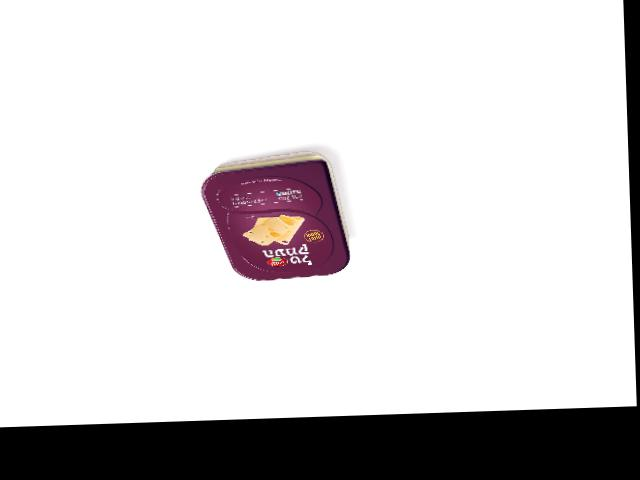cheese: (199, 150, 350, 283)
